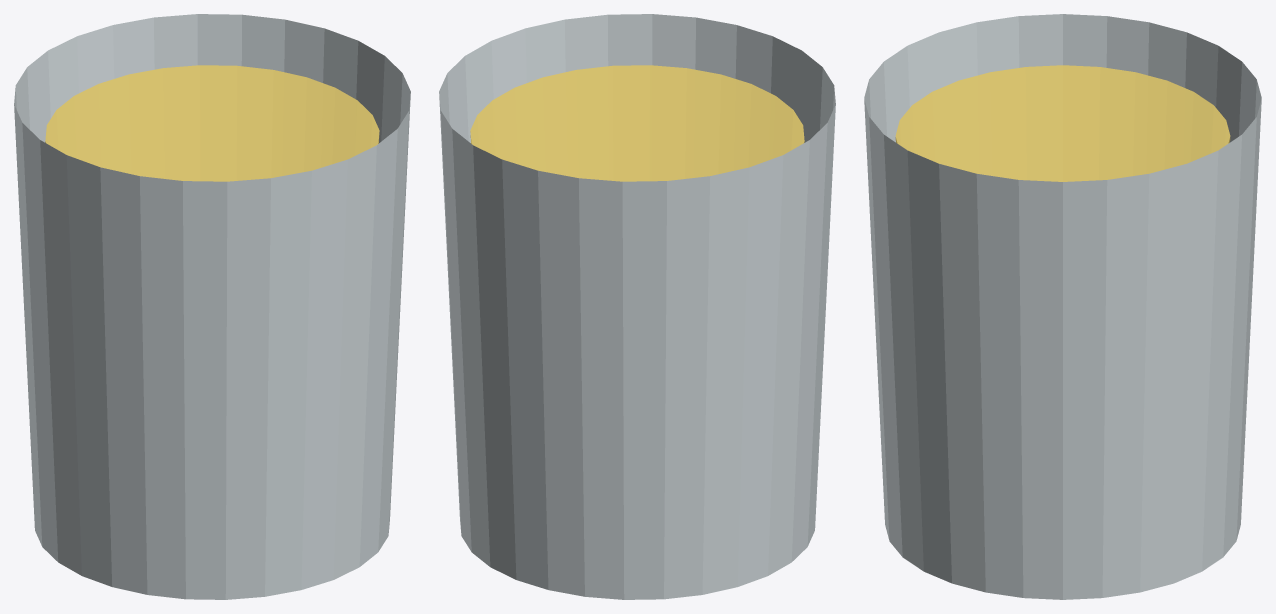
Rendered from glass_thimble.glb.
3 views of the same model, side by side, from view 1: azimuth 30°, elevation 25°; view 2: azimuth 150°, elevation 25°; view 3: azimuth 270°, elevation 25° (orthographic).
Parts seen in each view (by area): view 1: GlassBody, LIQUID_SHAPE; view 2: GlassBody, LIQUID_SHAPE; view 3: GlassBody, LIQUID_SHAPE.
Boxes of the visible parts, box(x1,y1,x2,y2) form: GlassBody: box(14, 14, 410, 599); LIQUID_SHAPE: box(45, 65, 379, 181); GlassBody: box(439, 14, 835, 599); LIQUID_SHAPE: box(470, 65, 804, 181); GlassBody: box(864, 14, 1261, 599); LIQUID_SHAPE: box(895, 65, 1230, 181).
Size of the model in its own units: 0.038 by 0.045 by 0.038.
